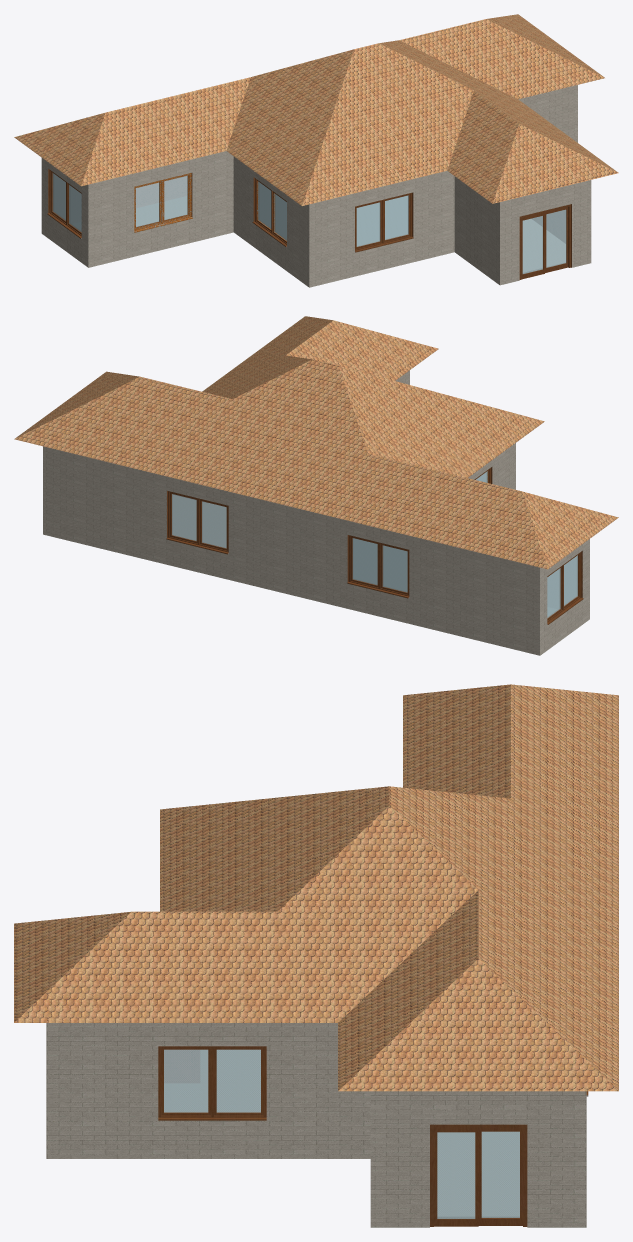
The model's file is telhado37.dae.
3 views of the same model, one above another, from view 1: azimuth 30°, elevation 25°; view 2: azimuth 150°, elevation 25°; view 3: azimuth 270°, elevation 25° (orthographic). The views are drawn at different scales.
Parts seen in each view (by area): view 1: SketchUp (×25); view 2: SketchUp (×16); view 3: SketchUp (×11).
Boxes of the visible parts, x1,y1,x2,y2 form: SketchUp (×25): (14,14,618,287); SketchUp (×16): (14,316,618,655); SketchUp (×11): (14,684,618,1227).
Bounding box in the file's own units: 683 × 441 × 217.
Materials: 12 (6 with a texture image).
